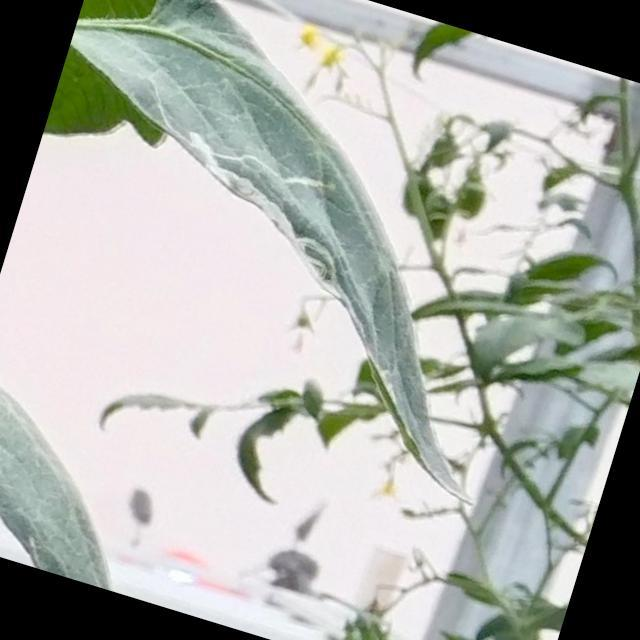Tomato target spot leaf: (0, 0, 606, 508)
